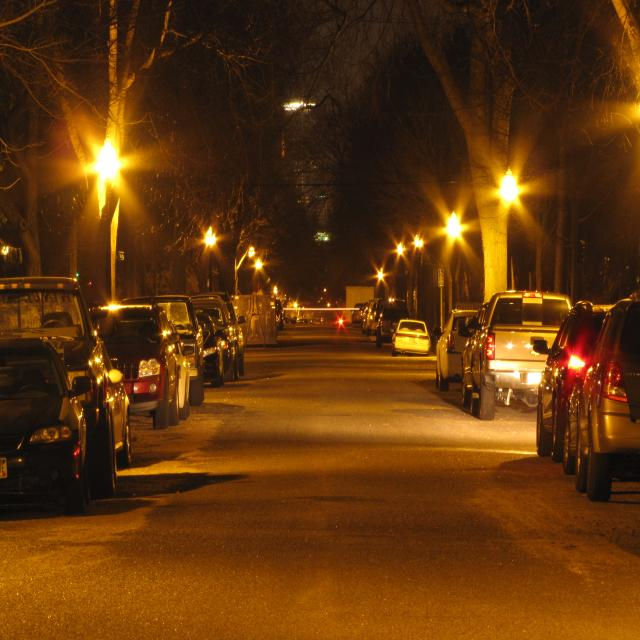Street Light: (99, 143, 122, 305), (502, 170, 517, 337), (446, 209, 459, 335)
